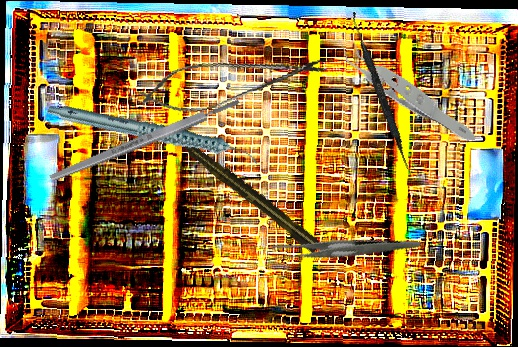Dressing Forceps: (269, 205, 421, 295)
Handpiece: (46, 62, 261, 207), (168, 129, 323, 255)
Micro Scissor: (136, 40, 330, 122)
Scalpel Handle: (47, 95, 243, 185)
Spatula Surgical: (345, 11, 415, 171)
Tissue Forceps: (335, 2, 478, 175)
